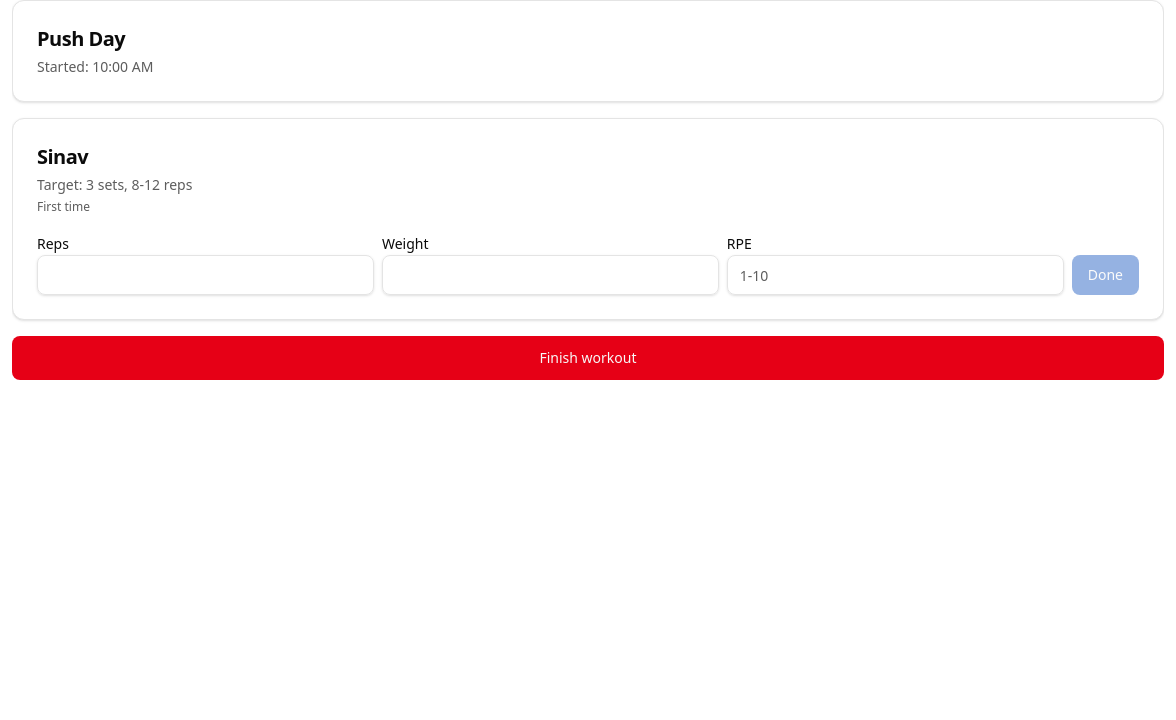
Test: SessionClient typed error UX › shows the SESSION_FINISHED toast and routes to /dashboard when addSet returns 409 + code SESSION_FINISHED on the live submit
This screenshot has width=1176, height=720.
Expected: the button "Sinav" is shown, [37,143,88,171]
Type "10" into the number field labelled "Reps" at (205, 275), box [37,255,374,295]
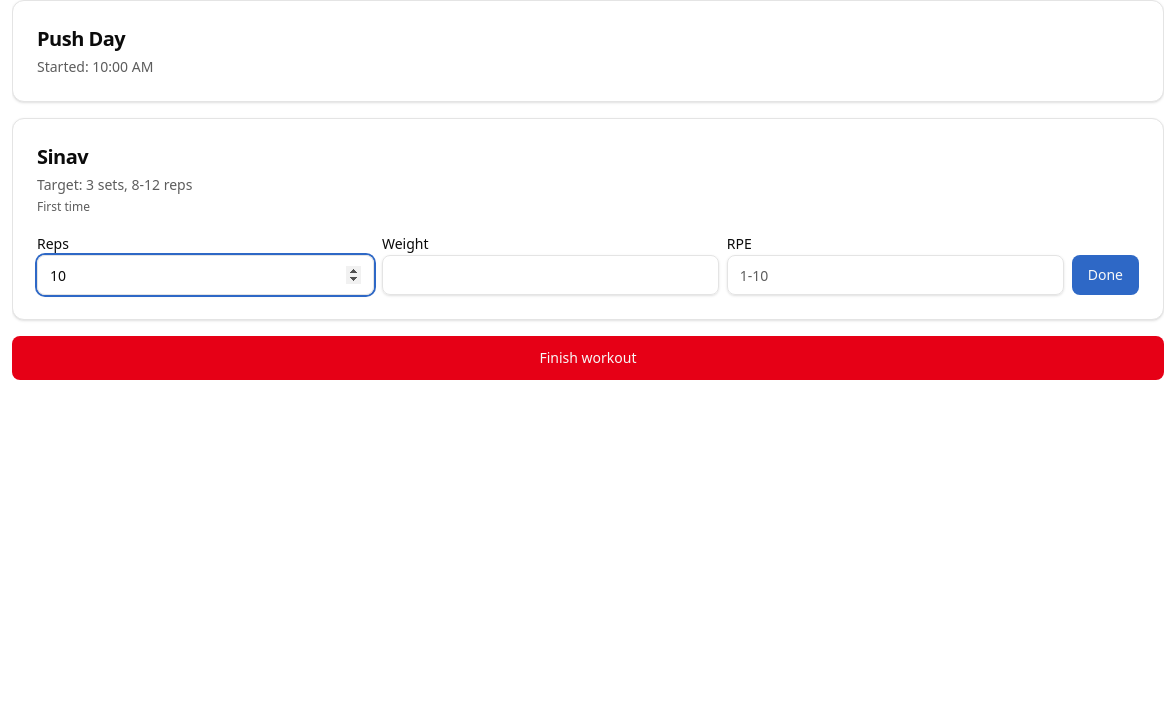
Click the button "Done" at (1105, 275), box [1072,255,1139,295]
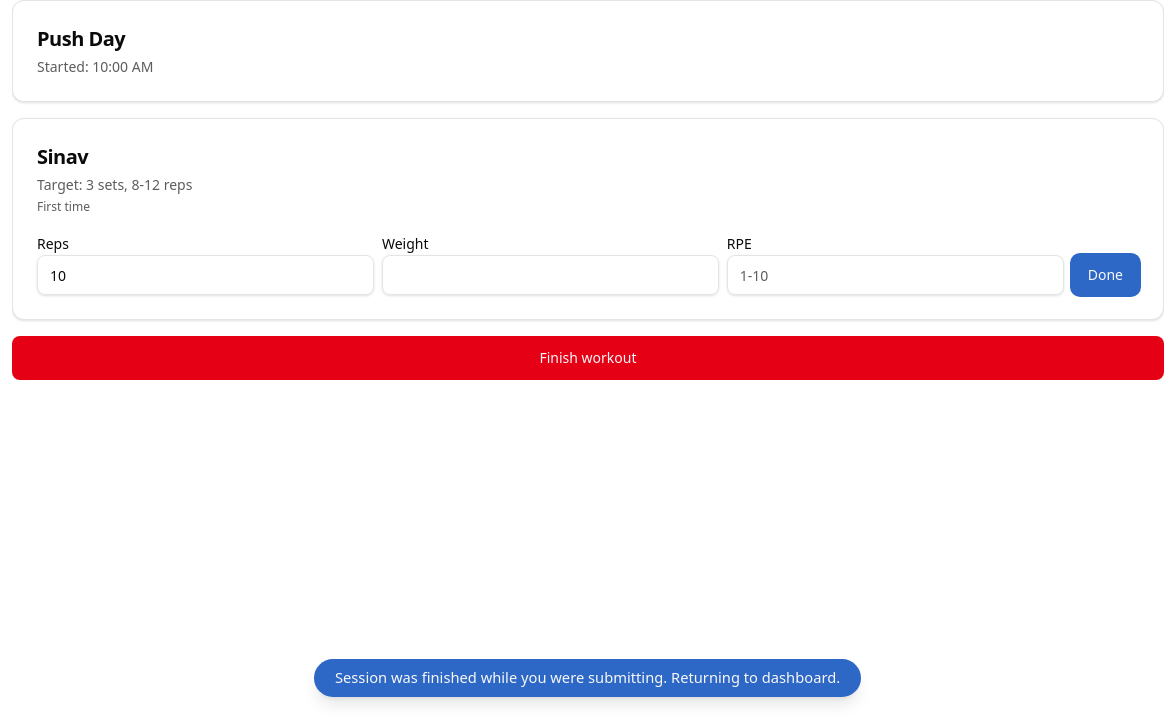
Now the message with test id "pr-toast" reads "Session was finished while you were submitting. Returning to dashboard.", box [335,668,841,688]
